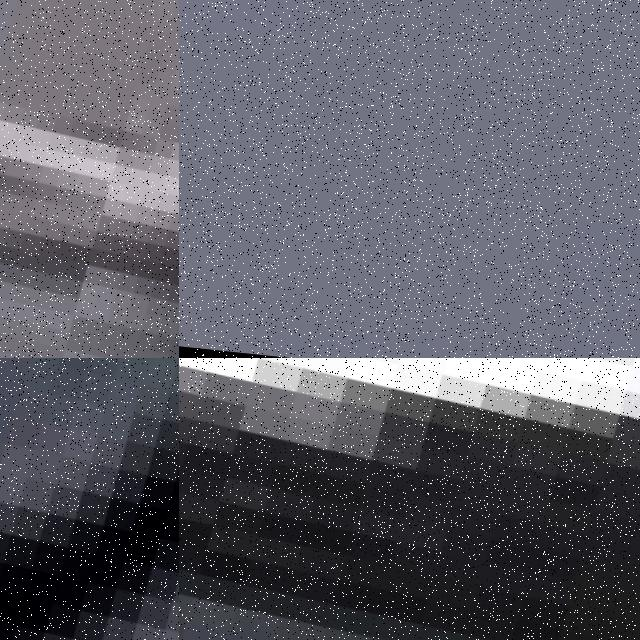drone: (179, 358, 640, 640), (0, 0, 179, 358), (0, 358, 179, 640)
